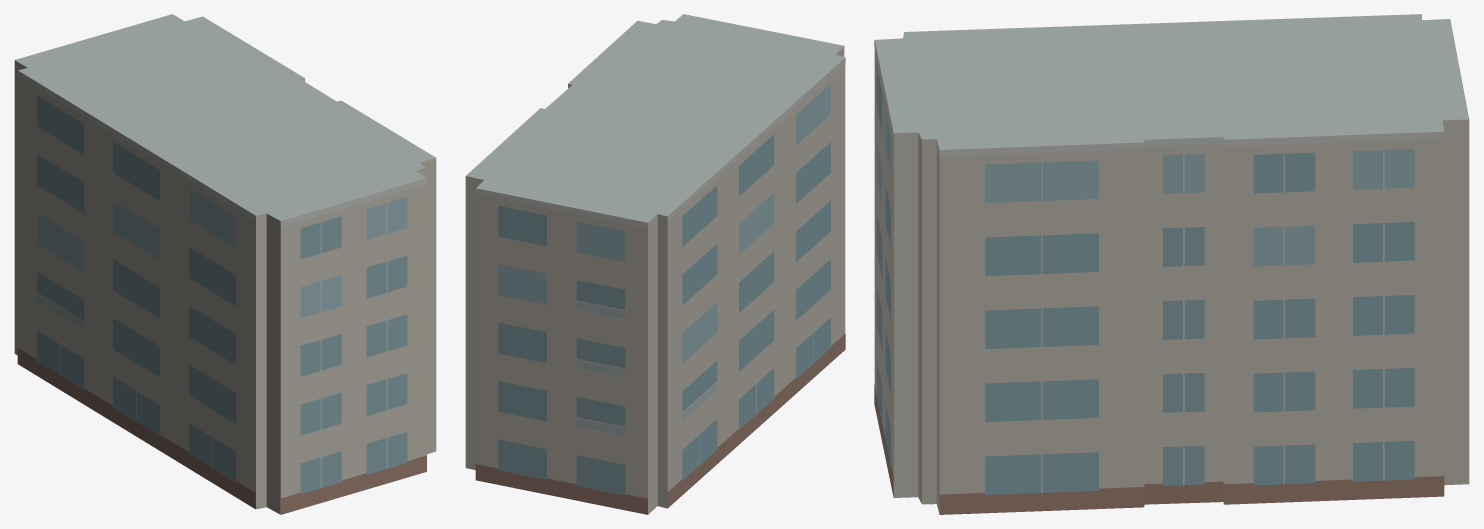
The model's file is survey-upis-32664194.glb.
3 views of the same model, side by side, from view 1: azimuth 30°, elevation 25°; view 2: azimuth 150°, elevation 25°; view 3: azimuth 270°, elevation 25° (orthographic). The views are drawn at different scales.
Parts seen in each view (by area): view 1: survey-upis-32664194.tmp; view 2: survey-upis-32664194.tmp; view 3: survey-upis-32664194.tmp.
Boxes of the visible parts, x1,y1,x2,y2 form: survey-upis-32664194.tmp: (14,14,436,514); survey-upis-32664194.tmp: (465,14,845,514); survey-upis-32664194.tmp: (874,14,1469,514).
Bounding box in the file's own units: 10.41 × 13 × 19.22.
